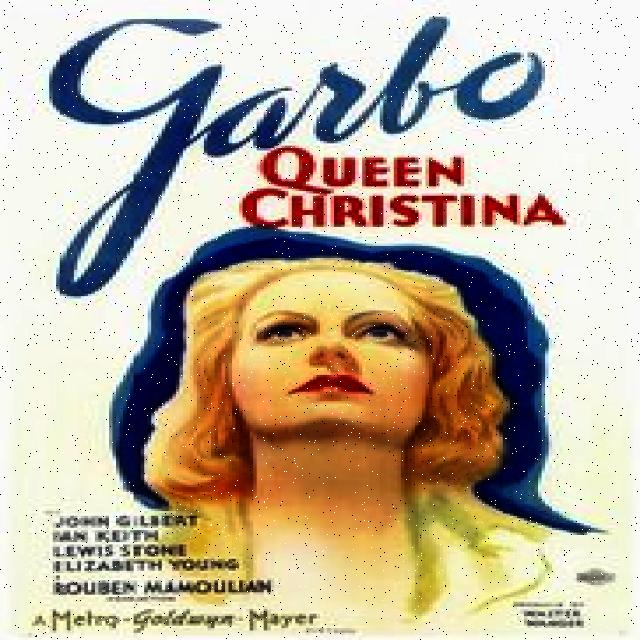movie-judul: (48, 12, 541, 297)
picture: (138, 245, 552, 503)
